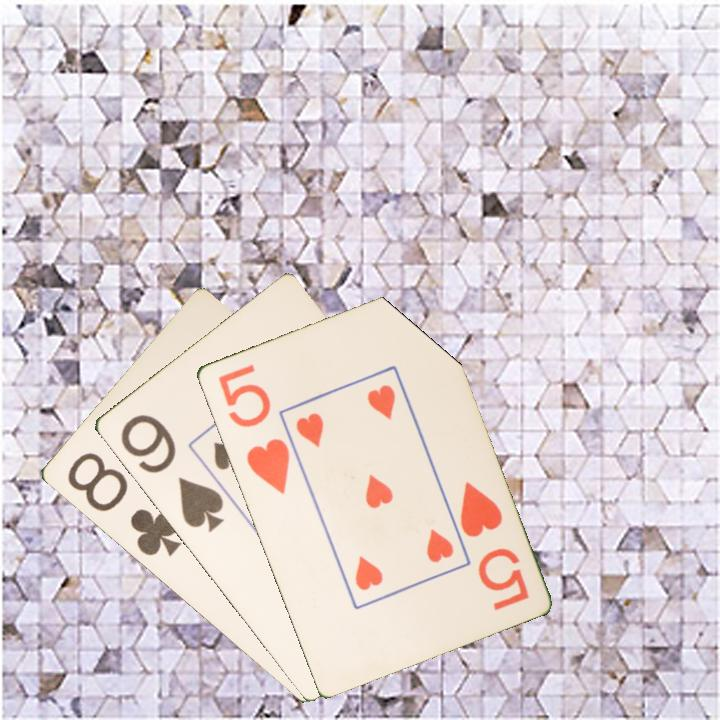5h: (214, 360, 292, 497), (455, 477, 532, 613)
8c: (63, 448, 184, 560)
9s: (116, 410, 226, 536)
